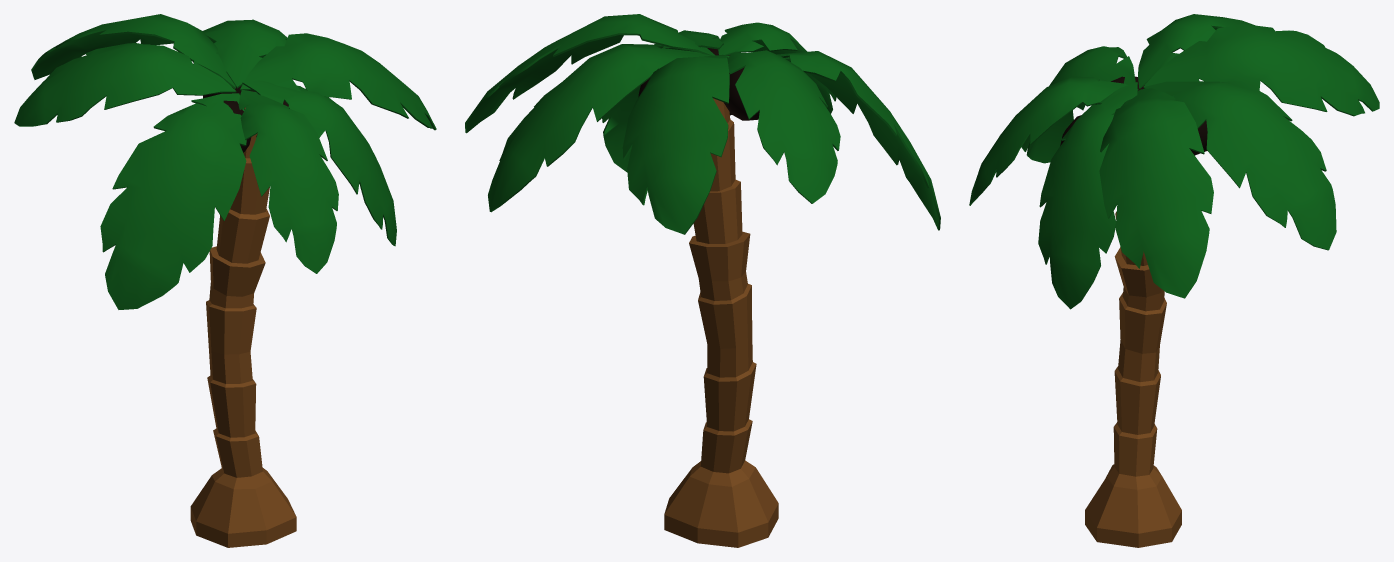
The model's file is SM_PalmTree_02.obj.
The picture shows the model from 3 angles, left to right: view 1: azimuth 30°, elevation 25°; view 2: azimuth 150°, elevation 25°; view 3: azimuth 270°, elevation 25°; orthographic projection. The views are drawn at different scales.
Visible parts, largest first — view 1: SM_PalmTree_02; view 2: SM_PalmTree_02; view 3: SM_PalmTree_02.
Boxes of the visible parts, bbox=[...] form: SM_PalmTree_02: bbox=[14, 14, 436, 547]; SM_PalmTree_02: bbox=[465, 14, 940, 547]; SM_PalmTree_02: bbox=[969, 14, 1379, 547].
Size of the model in its own units: 4.14 by 4.9 by 3.84.
